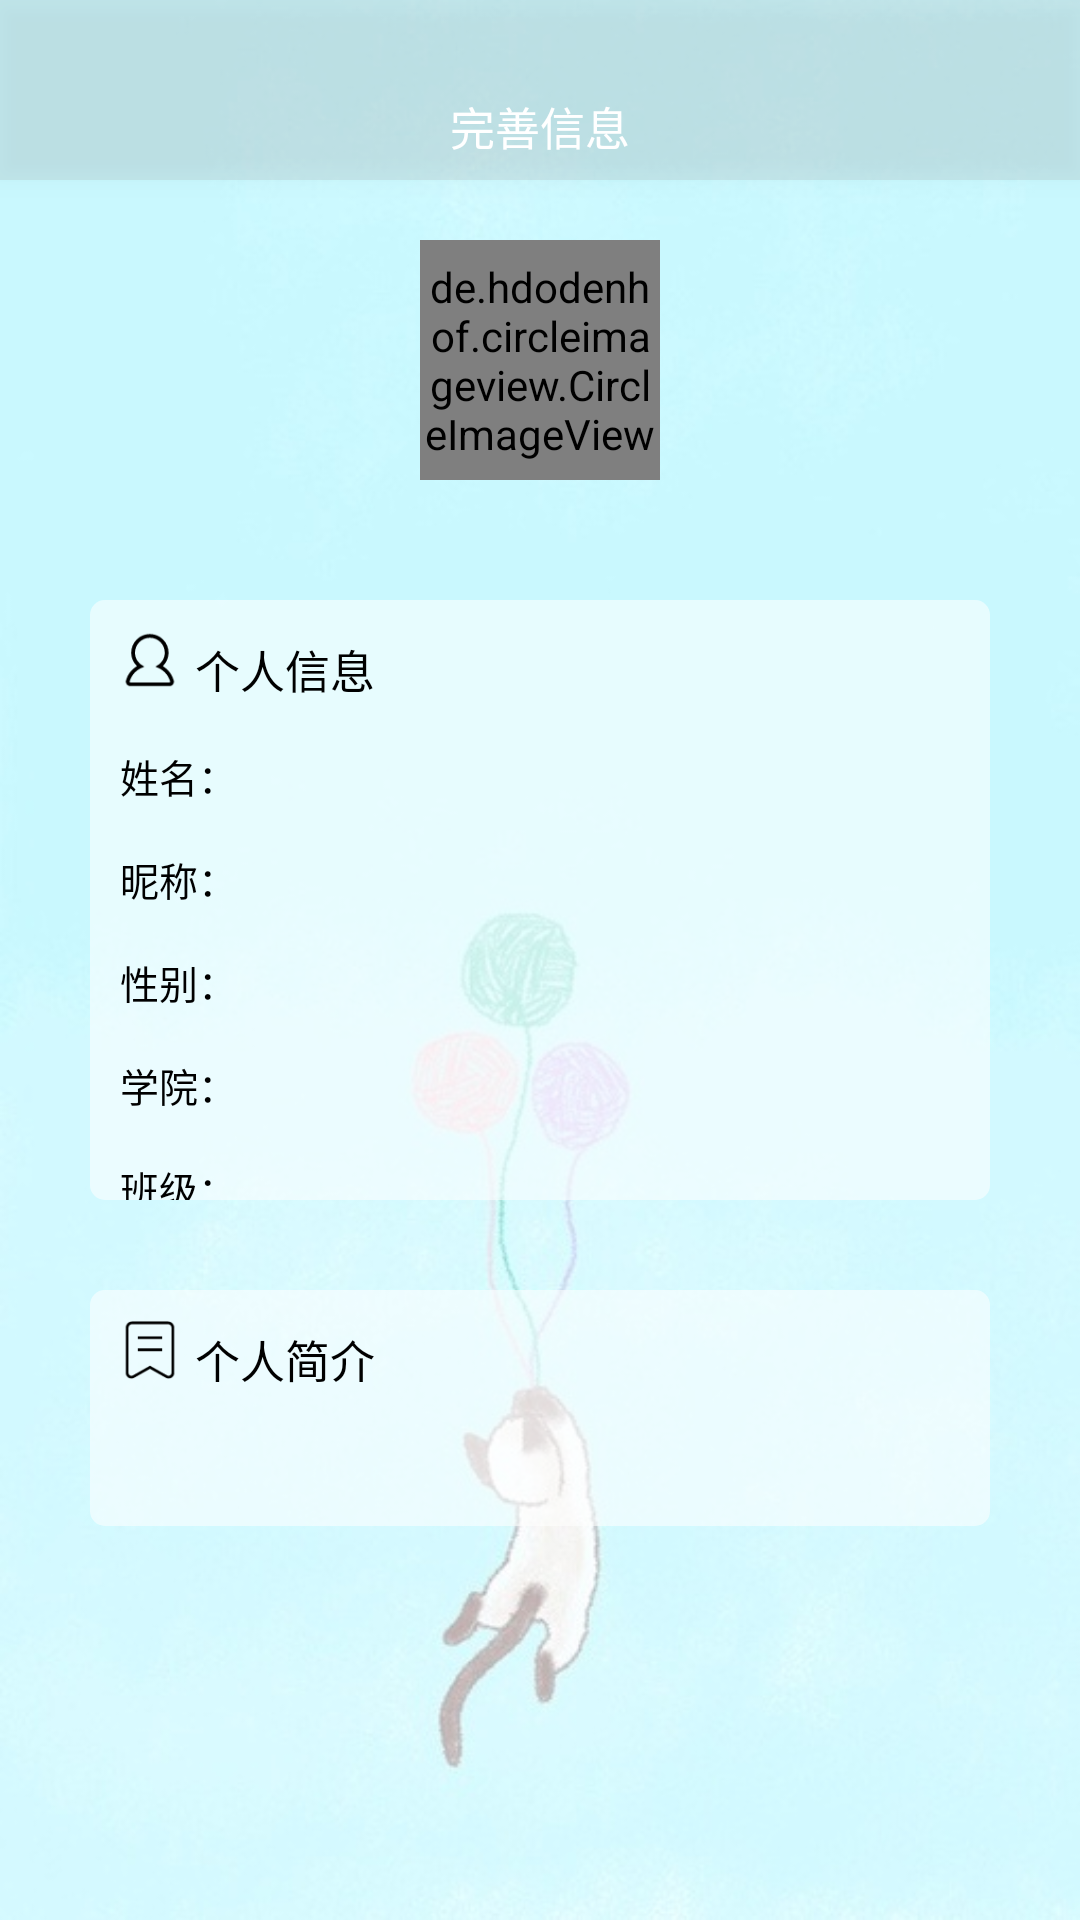

Screen size 1080w x 1920h. Icon name, then its center in pixels as (x=x, y=y):
personal info: (x=150, y=660)
